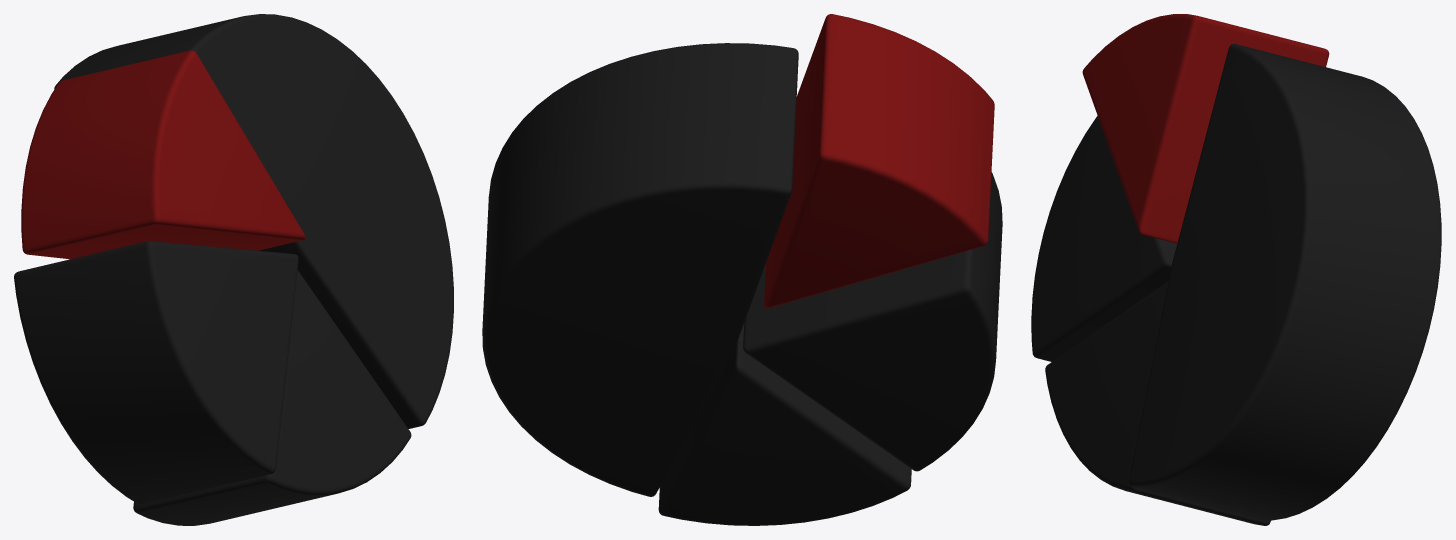
Rendered from Stat.glb.
The picture shows the model from 3 angles, left to right: view 1: azimuth 30°, elevation 25°; view 2: azimuth 150°, elevation 25°; view 3: azimuth 270°, elevation 25°; orthographic projection. The views are drawn at different scales.
Visible parts, largest first — view 1: Object004; view 2: Object004; view 3: Object004.
Boxes of the visible parts, <box> form: Object004: <box>14,14,453,525</box>; Object004: <box>482,14,1002,525</box>; Object004: <box>1031,14,1441,525</box>.
Bounding box in the file's own units: 0.0621 × 0.0652 × 0.0524.
